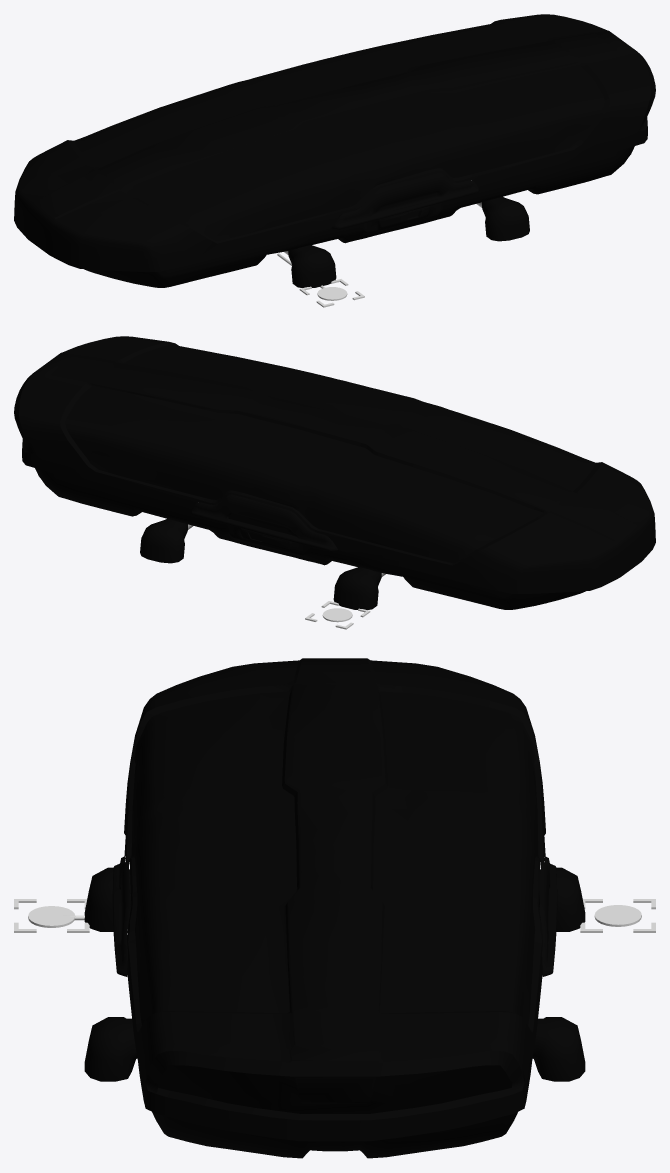
File: thalluthallu.glb
3 views of the same model, one above another, from view 1: azimuth 30°, elevation 25°; view 2: azimuth 150°, elevation 25°; view 3: azimuth 270°, elevation 25° (orthographic). The views are drawn at different scales.
Visible parts, largest first — view 1: Thule_motion_XT_Alpine_low, Box013, Box011; view 2: Thule_motion_XT_Alpine_low, Box012, Box010; view 3: Thule_motion_XT_Alpine_low, Box013, Box012, Box011, Box010, Cylinder004, Cylinder003.
Boxes of the visible parts, x1,y1,x2,y2 form: Thule_motion_XT_Alpine_low: (14,14,655,287); Box013: (482,196,529,241); Box011: (288,245,336,287); Thule_motion_XT_Alpine_low: (14,336,655,609); Box012: (140,518,187,563); Box010: (333,567,381,609); Thule_motion_XT_Alpine_low: (112,658,557,1158); Box013: (84,1017,137,1081); Box012: (532,1017,585,1081); Box011: (84,867,131,931); Box010: (538,867,585,931); Cylinder004: (594,905,641,926); Cylinder003: (28,906,75,927).
Size of the model in its own units: 2.28 by 0.3987 by 1.36.
4 materials, 2 textured.
